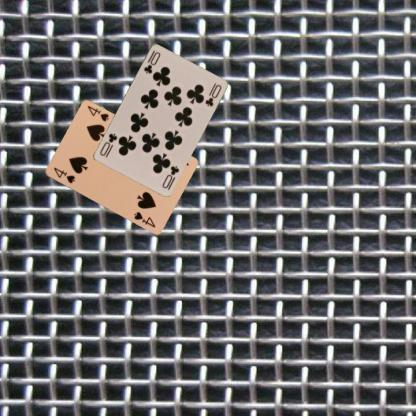10c: (160, 162, 180, 192), (141, 49, 162, 75)
4s: (51, 165, 76, 185)
